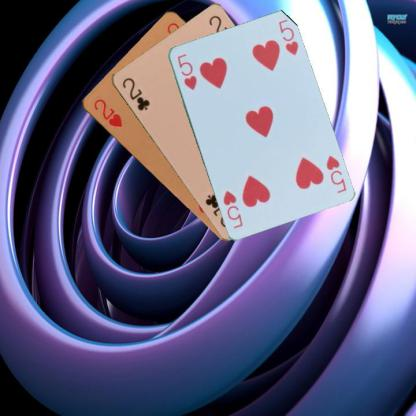2c: (119, 75, 151, 112)
2h: (91, 96, 123, 130)
5h: (323, 153, 347, 194), (174, 51, 198, 91)
